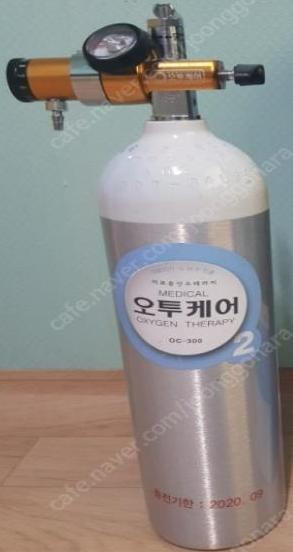cylinder: (1, 1, 293, 552)
